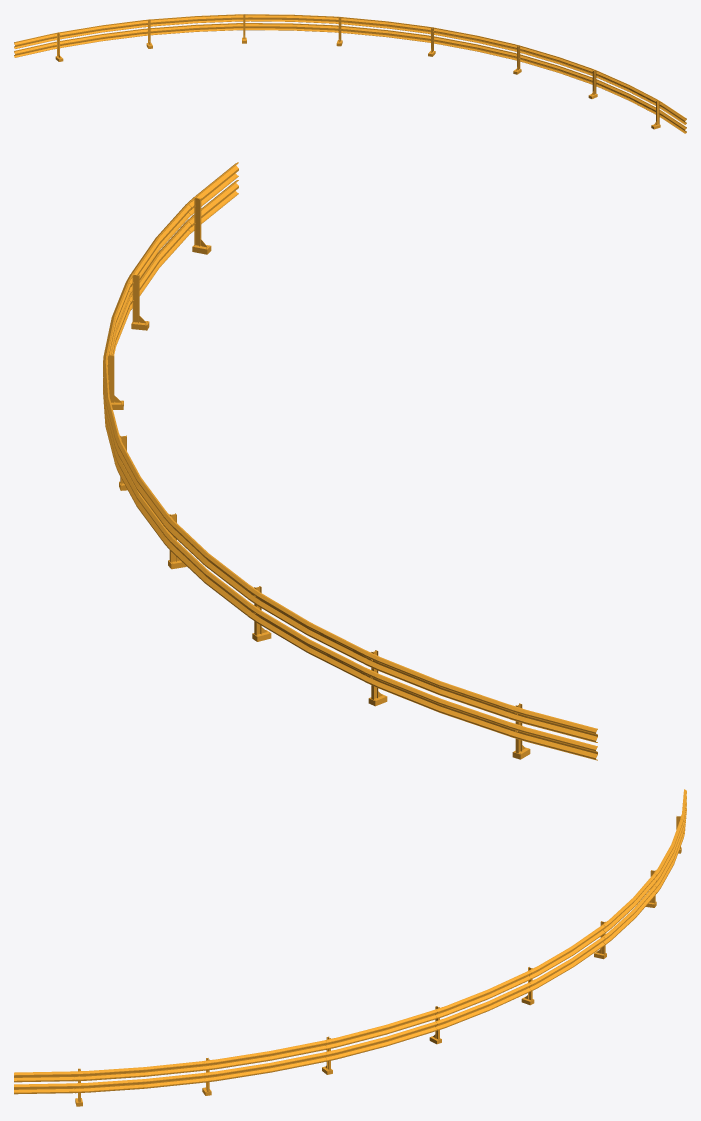
File: SM_Fence_Road_WBeam_Double_Metal_20m_Corner_Outer.fbx
3 renders of one model, top to bottom at view 1: azimuth 30°, elevation 25°; view 2: azimuth 150°, elevation 25°; view 3: azimuth 270°, elevation 25°, orthographic. The views are drawn at different scales.
Visible parts, largest first — view 1: SM_Fence_Road_WBeam_Double_Metal_20m_Corner_Outer; view 2: SM_Fence_Road_WBeam_Double_Metal_20m_Corner_Outer; view 3: SM_Fence_Road_WBeam_Double_Metal_20m_Corner_Outer.
Part boxes in pixels (<box>): SM_Fence_Road_WBeam_Double_Metal_20m_Corner_Outer: <box>14,14,686,133</box>; SM_Fence_Road_WBeam_Double_Metal_20m_Corner_Outer: <box>103,162,597,760</box>; SM_Fence_Road_WBeam_Double_Metal_20m_Corner_Outer: <box>14,789,686,1106</box>.
Size of the model in its own units: 20.45 by 1.2 by 20.45.
